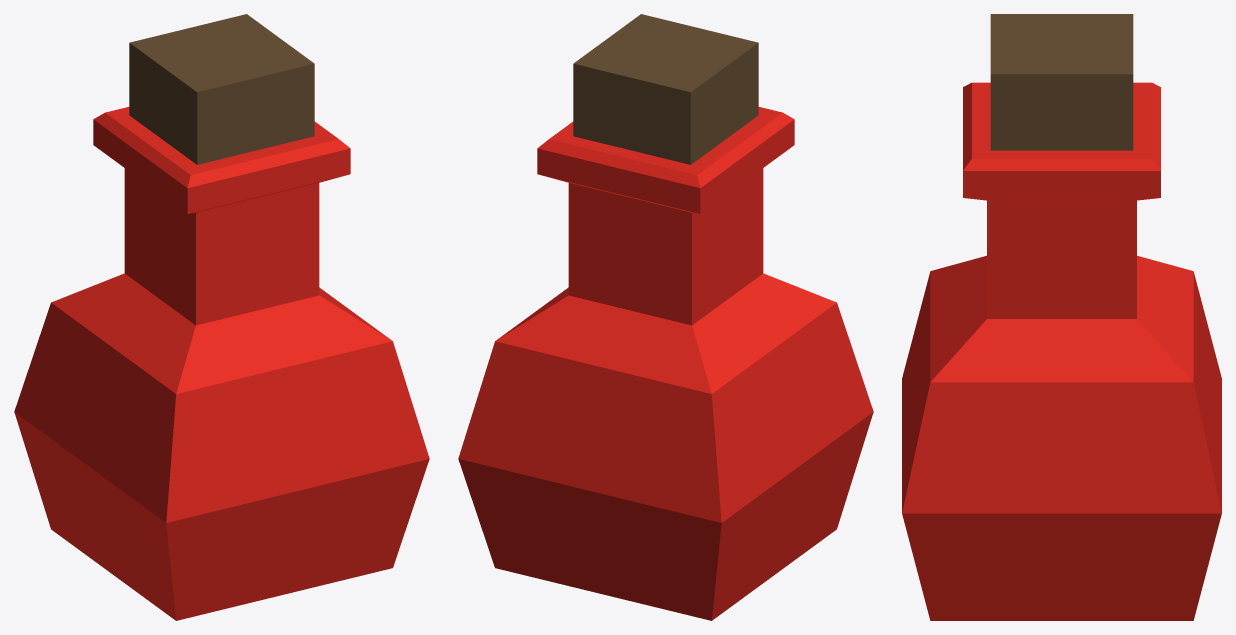
Rendered from Potion.fbx.
The picture shows the model from 3 angles, left to right: view 1: azimuth 30°, elevation 25°; view 2: azimuth 150°, elevation 25°; view 3: azimuth 270°, elevation 25°; orthographic projection. The views are drawn at different scales.
Parts seen in each view (by area): view 1: Cube; view 2: Cube; view 3: Cube.
Boxes of the visible parts, box(x1,y1,x2,y2) form: Cube: box(14, 14, 429, 620); Cube: box(458, 14, 873, 620); Cube: box(902, 14, 1221, 620).
Size of the model in its own units: 263 by 485 by 263.
